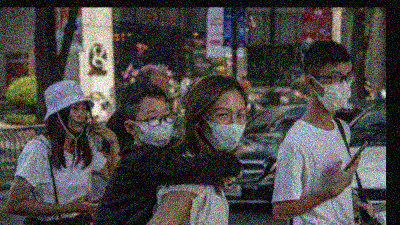with_mask: (199, 105, 246, 152), (133, 105, 175, 146), (314, 69, 353, 111)
without_mask: (68, 102, 88, 133)
